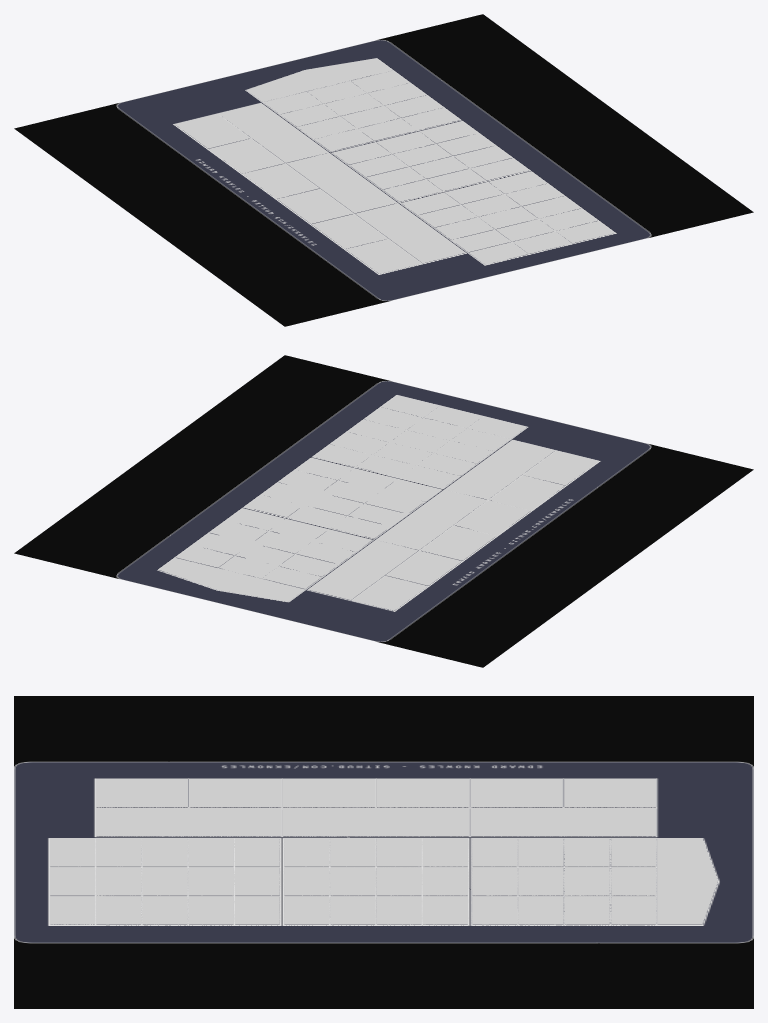
The picture shows the model from 3 angles, top to bottom: view 1: azimuth 30°, elevation 25°; view 2: azimuth 150°, elevation 25°; view 3: azimuth 270°, elevation 25°; orthographic projection. The views are drawn at different scales.
Visible parts, largest first — view 1: felt, H_2D, H_1D, H_3D, H_0, H_RED, H_BLACK, H_EVEN, H_FIRST, H_LAST, H_ODD, H_18 (+38 smaller); view 2: felt, H_2D, H_3D, H_1D, H_0, H_BLACK, H_RED, H_LAST, H_ODD, H_EVEN, H_FIRST, H_10 (+38 smaller); view 3: felt, H_2D, H_3D, H_1D, H_0, H_BLACK, H_RED, H_ODD, H_EVEN, H_FIRST, H_LAST, H_10 (+38 smaller).
Part boxes in pixels (box(x1,y1,x2,y2)): felt: box(14, 14, 753, 326); H_2D: box(286, 153, 396, 213); H_1D: box(218, 103, 327, 162); H_3D: box(355, 203, 464, 263); H_0: box(247, 58, 392, 101); H_RED: box(243, 163, 318, 198); H_BLACK: box(277, 189, 352, 223); H_EVEN: box(209, 139, 284, 173); H_FIRST: box(175, 114, 250, 148); H_LAST: box(346, 239, 421, 273); H_ODD: box(312, 214, 387, 248); H_18: box(437, 133, 495, 155); felt: box(14, 355, 753, 667); H_2D: box(377, 490, 486, 549); H_3D: box(445, 440, 555, 499); H_1D: box(308, 540, 417, 599); H_0: box(159, 558, 304, 601); H_BLACK: box(455, 500, 530, 535); H_RED: box(420, 525, 495, 560); H_LAST: box(523, 450, 598, 485); H_ODD: box(489, 475, 564, 510); H_EVEN: box(386, 551, 461, 585); H_FIRST: box(352, 576, 427, 610); H_10: box(313, 529, 371, 551); felt: box(14, 696, 753, 1008); H_2D: box(283, 807, 469, 835); H_3D: box(96, 807, 281, 835); H_1D: box(471, 807, 655, 835); H_0: box(657, 838, 717, 924); H_BLACK: box(283, 778, 375, 806); H_RED: box(377, 778, 469, 806); H_ODD: box(189, 778, 281, 806); H_EVEN: box(471, 778, 562, 806); H_FIRST: box(564, 778, 655, 806); H_LAST: box(96, 778, 187, 806); H_10: box(472, 838, 517, 866).
Size of the model in its own units: 4.06 by 0.00305 by 4.06.
Materials: 2 (1 with a texture image).
